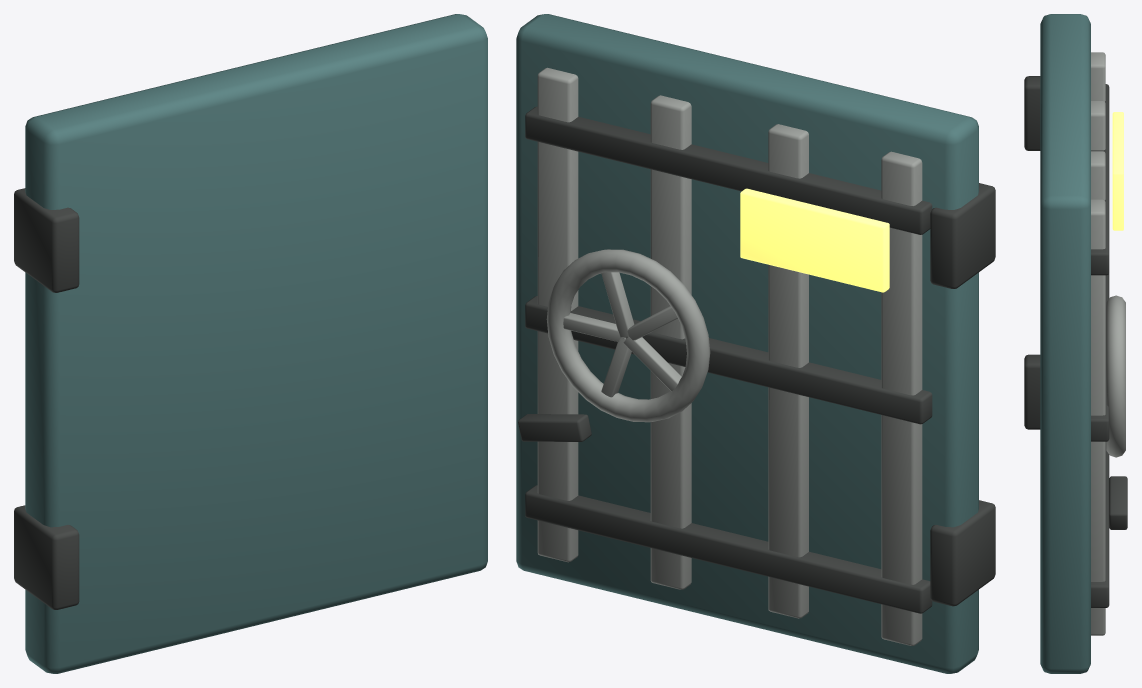
Rendered from hab_bulkhead_door_v6.glb.
3 views of the same model, side by side, from view 1: azimuth 30°, elevation 25°; view 2: azimuth 150°, elevation 25°; view 3: azimuth 270°, elevation 25° (orthographic). The views are drawn at different scales.
Visible parts, largest first — view 1: HabBulkheadDoor; view 2: HabBulkheadDoor; view 3: HabBulkheadDoor.
Boxes of the visible parts, x1,y1,x2,y2 form: HabBulkheadDoor: [14, 14, 487, 673]; HabBulkheadDoor: [516, 14, 995, 673]; HabBulkheadDoor: [1024, 14, 1127, 673].
Bounding box in the file's own units: 1.98 × 2.3 × 0.45.
